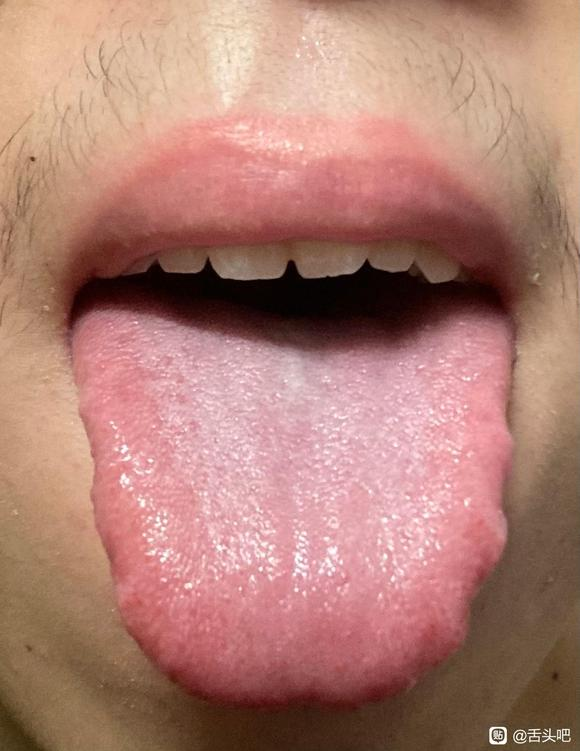baitaishe: (73, 290, 514, 709)
chihenshe: (74, 379, 137, 644), (461, 366, 514, 653)
hongshe: (73, 290, 514, 709)
